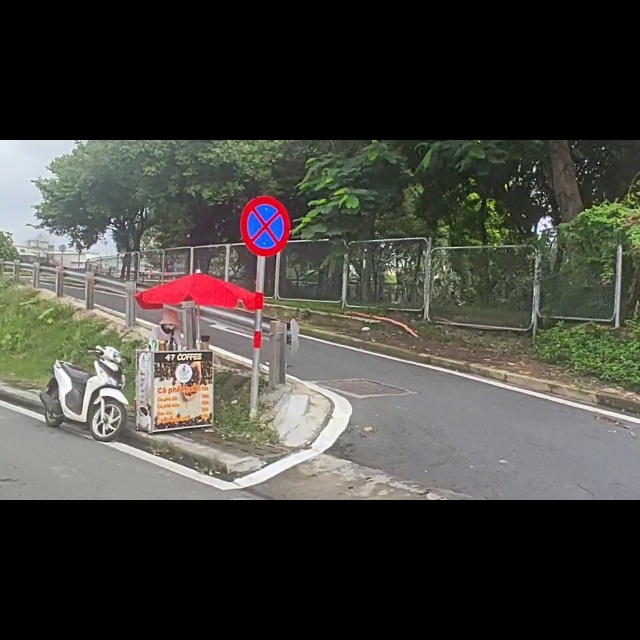bien_cam: (239, 97, 291, 209)
